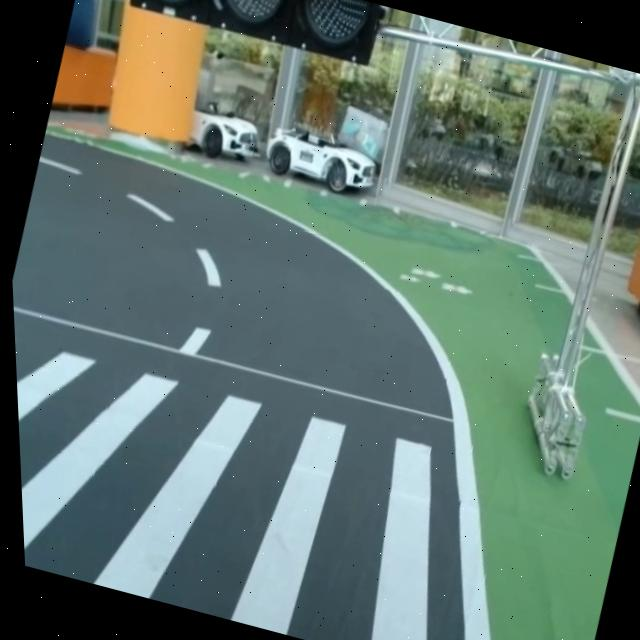traffic-light: (109, 0, 396, 71)
